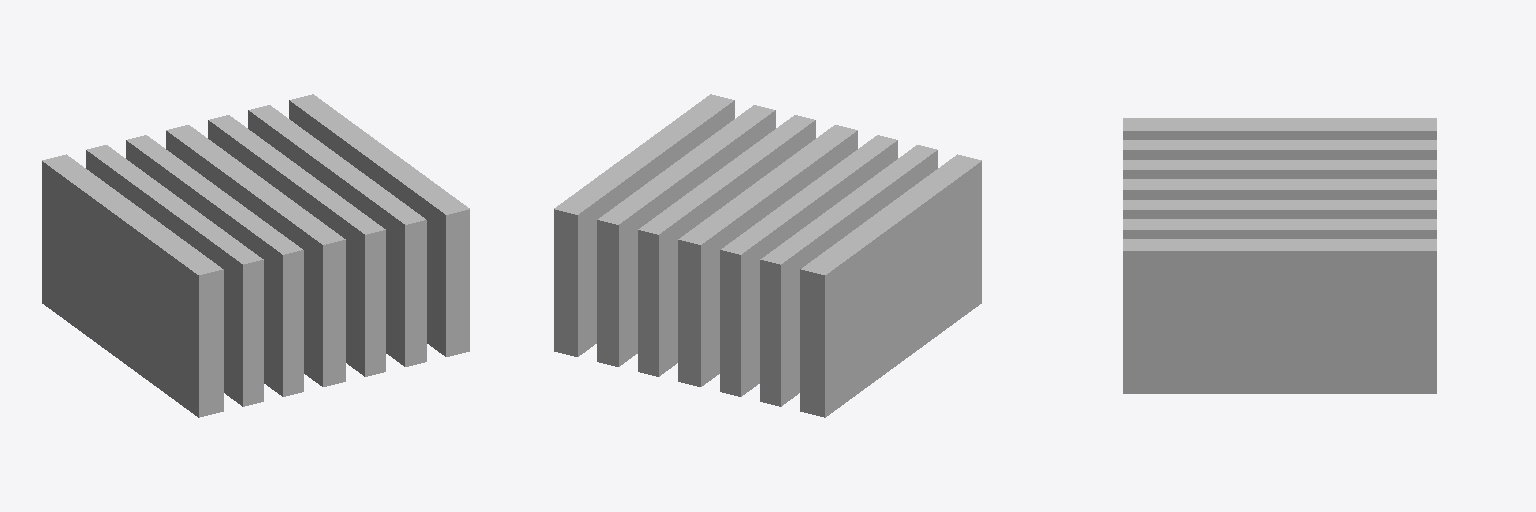
The model's file is wall_slices_half.obj.
3 renders of one model, left to right at view 1: azimuth 30°, elevation 25°; view 2: azimuth 150°, elevation 25°; view 3: azimuth 270°, elevation 25°, orthographic.
Parts seen in each view (by area): view 1: wall_slices_half; view 2: wall_slices_half; view 3: wall_slices_half.
Boxes of the visible parts, x1,y1,x2,y2 form: wall_slices_half: [42, 94, 469, 417]; wall_slices_half: [554, 94, 981, 417]; wall_slices_half: [1123, 118, 1436, 393].
Size of the model in its own units: 2 by 1 by 2.